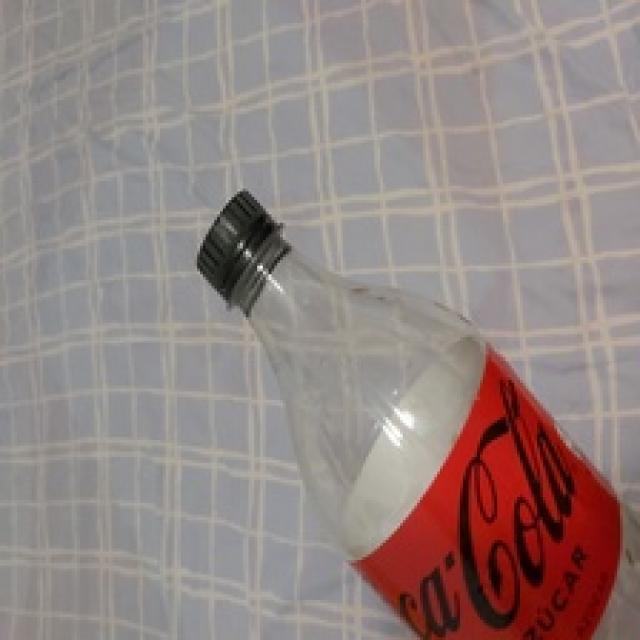Plastic: (198, 180, 640, 640)
